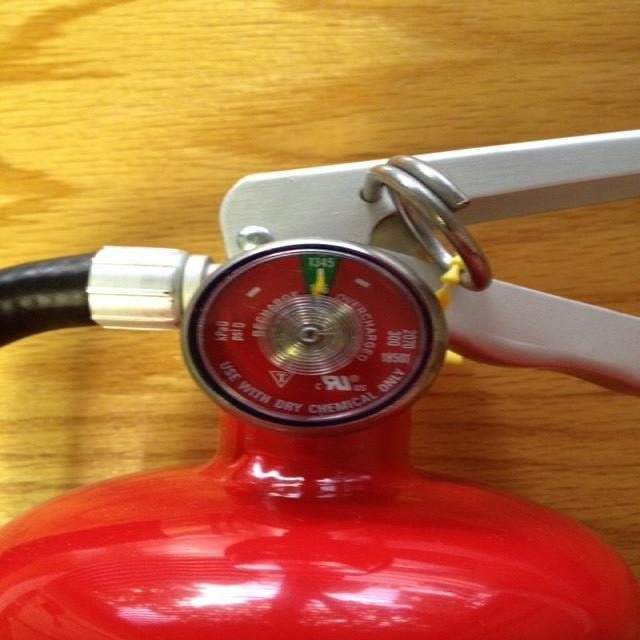pressure gauge: (183, 241, 445, 430)
